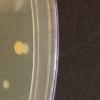yellow: (13, 40, 22, 54), (22, 42, 30, 56), (2, 80, 10, 90)
